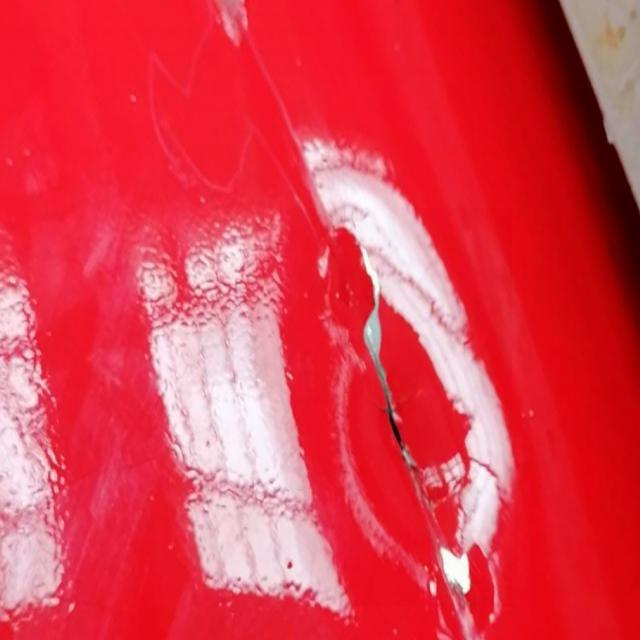crack: (281, 209, 513, 608)
